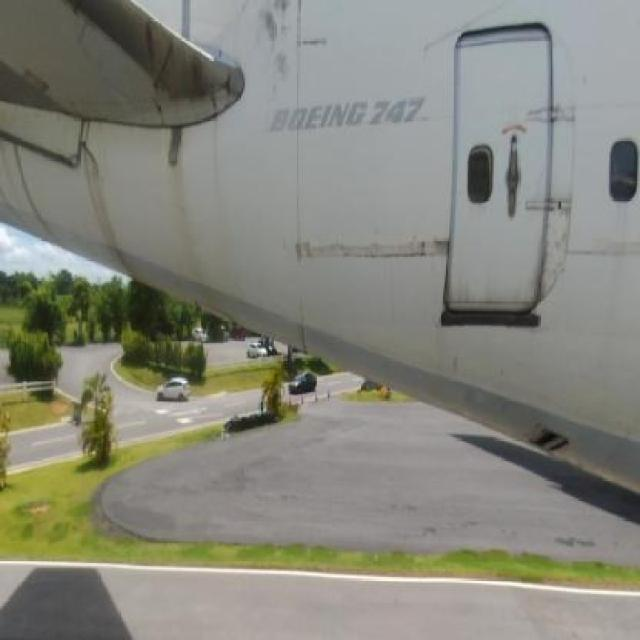Rust: (83, 158, 139, 282), (164, 134, 205, 229)
Scartch: (293, 222, 453, 270), (250, 4, 308, 88), (538, 200, 573, 318)
